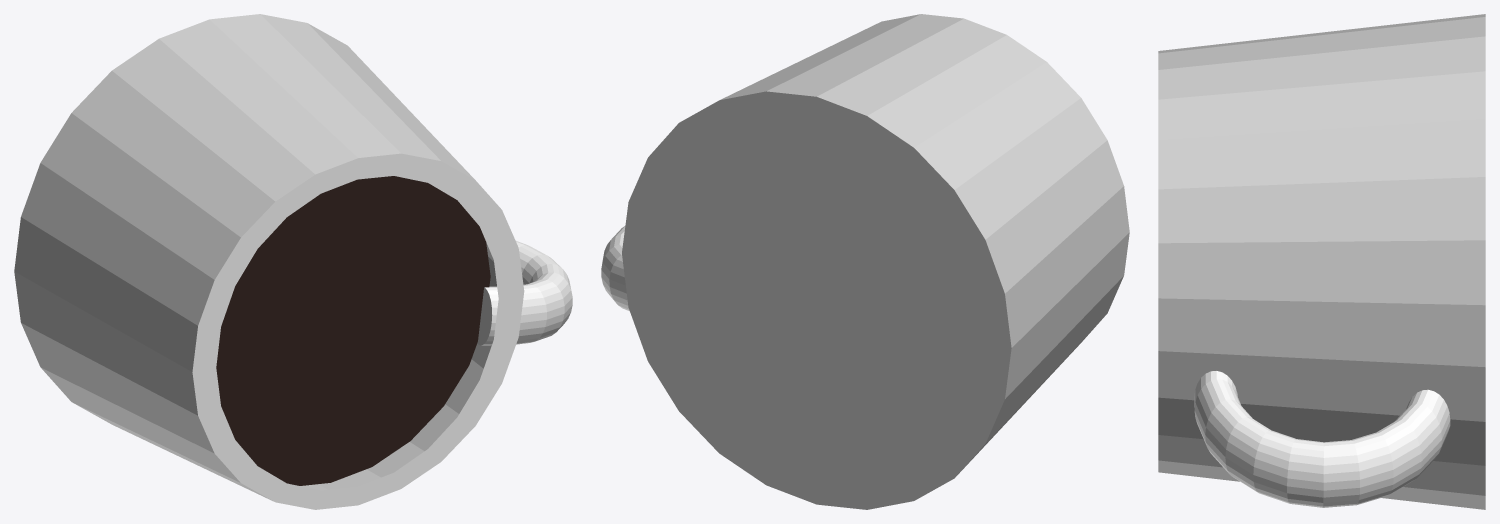
3 views of the same model, side by side, from view 1: azimuth 30°, elevation 25°; view 2: azimuth 150°, elevation 25°; view 3: azimuth 270°, elevation 25° (orthographic). The views are drawn at different scales.
Visible parts, largest first — view 1: coffee cup; view 2: coffee cup; view 3: coffee cup.
Boxes of the visible parts, <box> form: coffee cup: <box>14,14,572,509</box>; coffee cup: <box>601,14,1129,509</box>; coffee cup: <box>1158,14,1485,509</box>.
Bounding box in the file's own units: 117 × 97.12 × 63.88.
